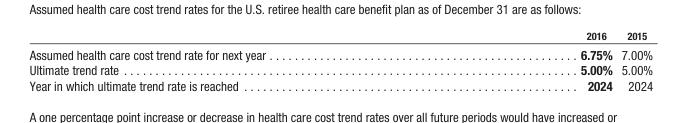table: (28, 29, 652, 92)
table column: (28, 29, 422, 92), (422, 29, 616, 92), (616, 29, 652, 92)
table column header: (28, 29, 652, 43)
table row: (28, 43, 652, 61), (28, 61, 652, 77), (28, 77, 652, 92), (28, 29, 652, 43)
